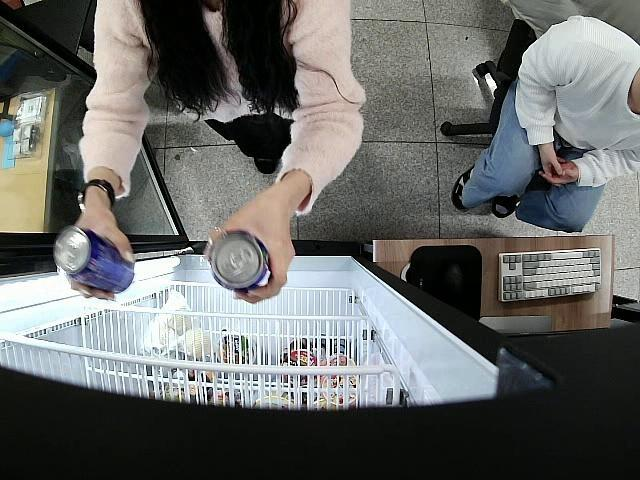14_welchsGrape: (54, 227, 134, 294), (206, 232, 272, 295)
